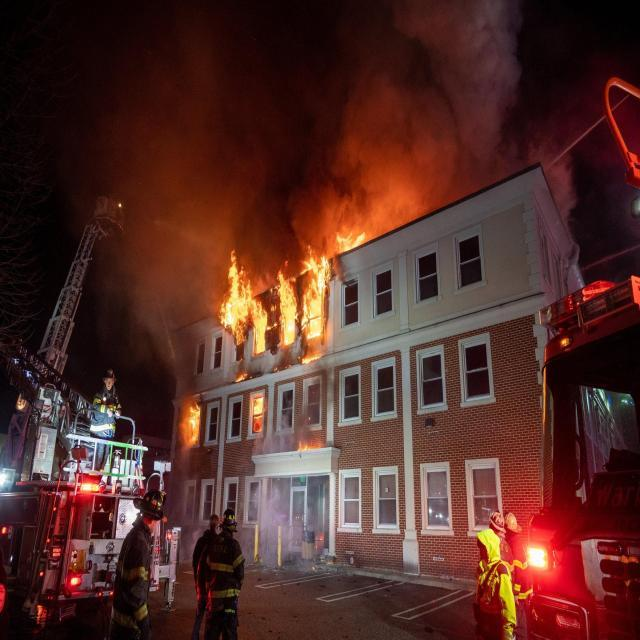Fire: (213, 235, 331, 368), (326, 202, 374, 254), (180, 396, 202, 446)
Smoke: (34, 0, 546, 239)
